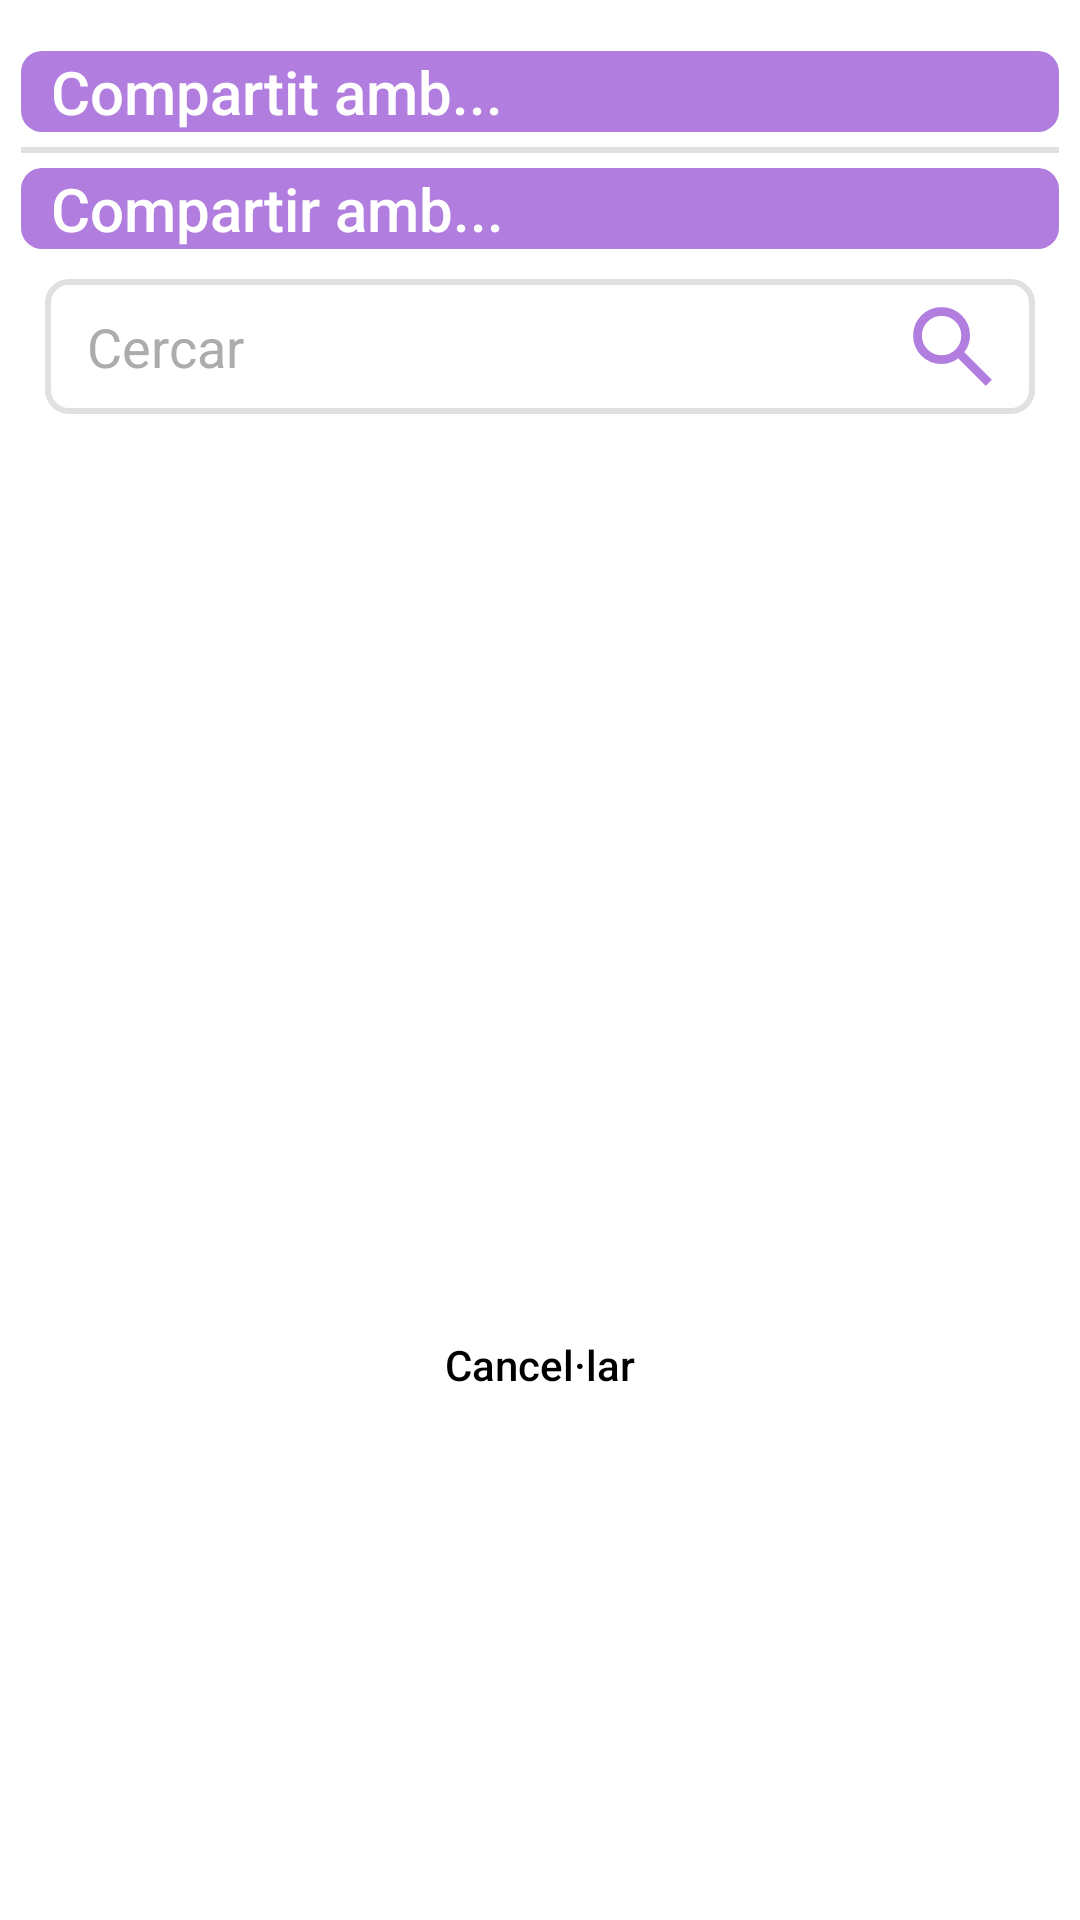

Icon bounding boxes for this 1080px x 1920px phone screenshot, format (x1, y1, x2, y2):
lupa: (913, 307, 992, 386)
